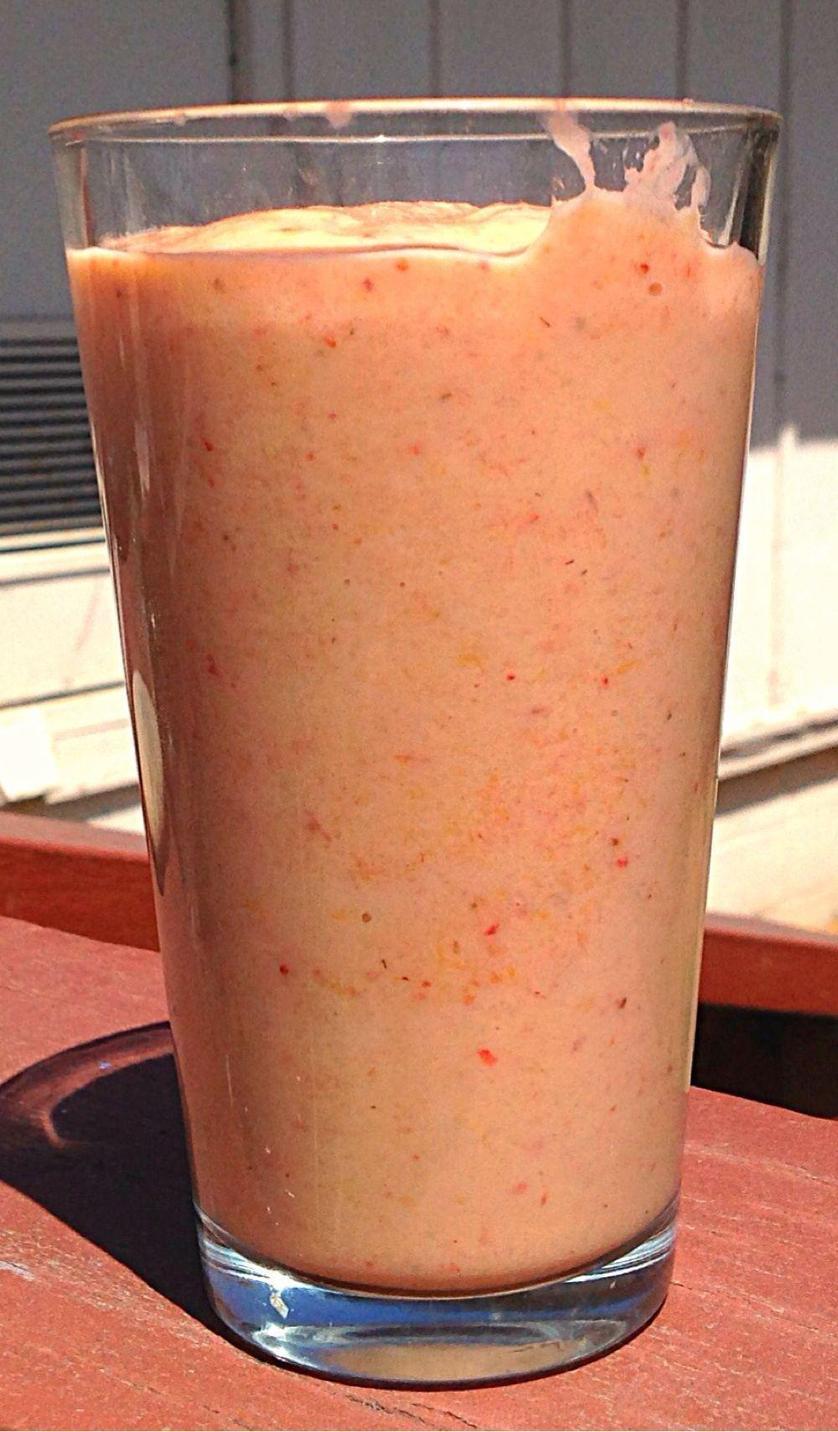glass-normal: (36, 72, 784, 1395)
